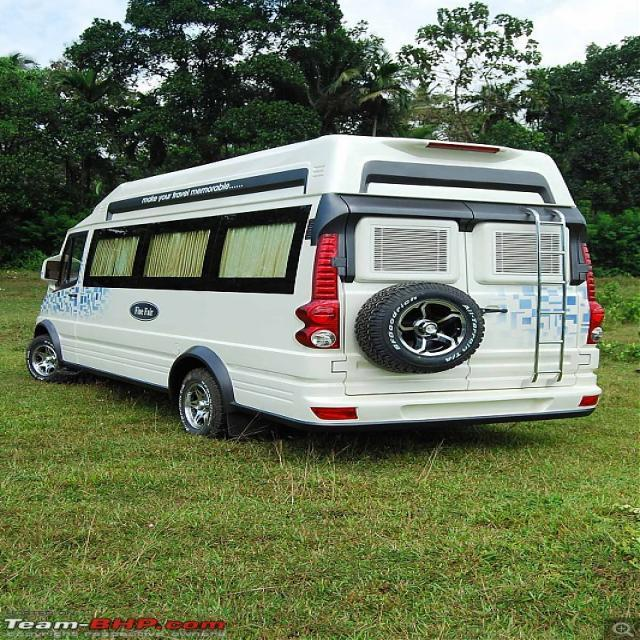Ambulance: (22, 132, 606, 441)
